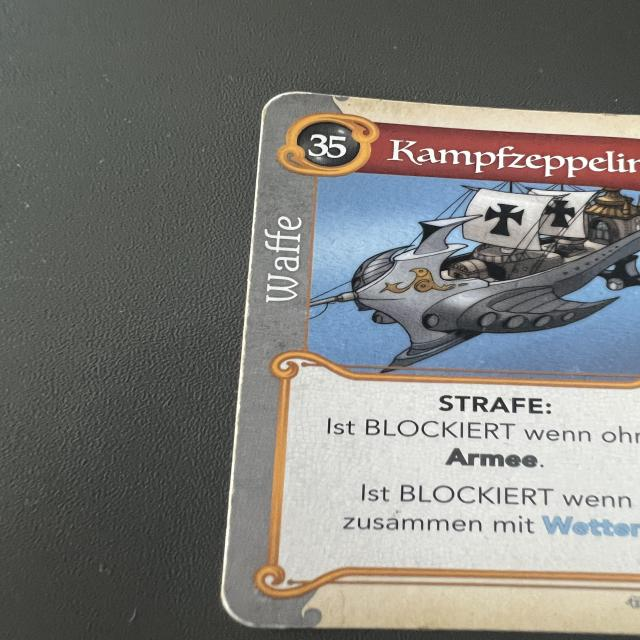War Dirigable: (215, 88, 640, 636)
